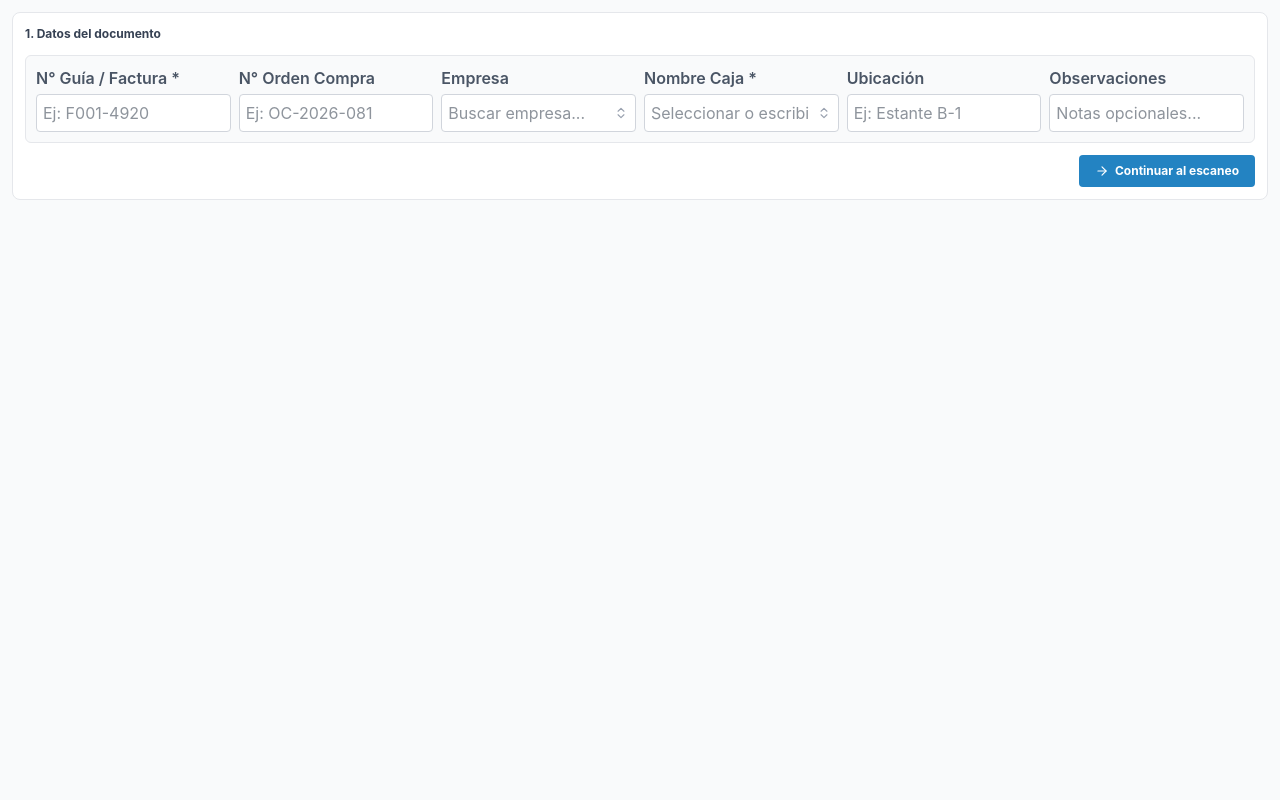
Test: IngresoPorDocumento › código no vinculado: abre la búsqueda del maestro y lo deja para vincular al confirmar
This screenshot has width=1280, height=800.
Type "F-100" into the field with placeholder "Ej: F001-4920". click: (133, 113)
box: [36,94,231,132]
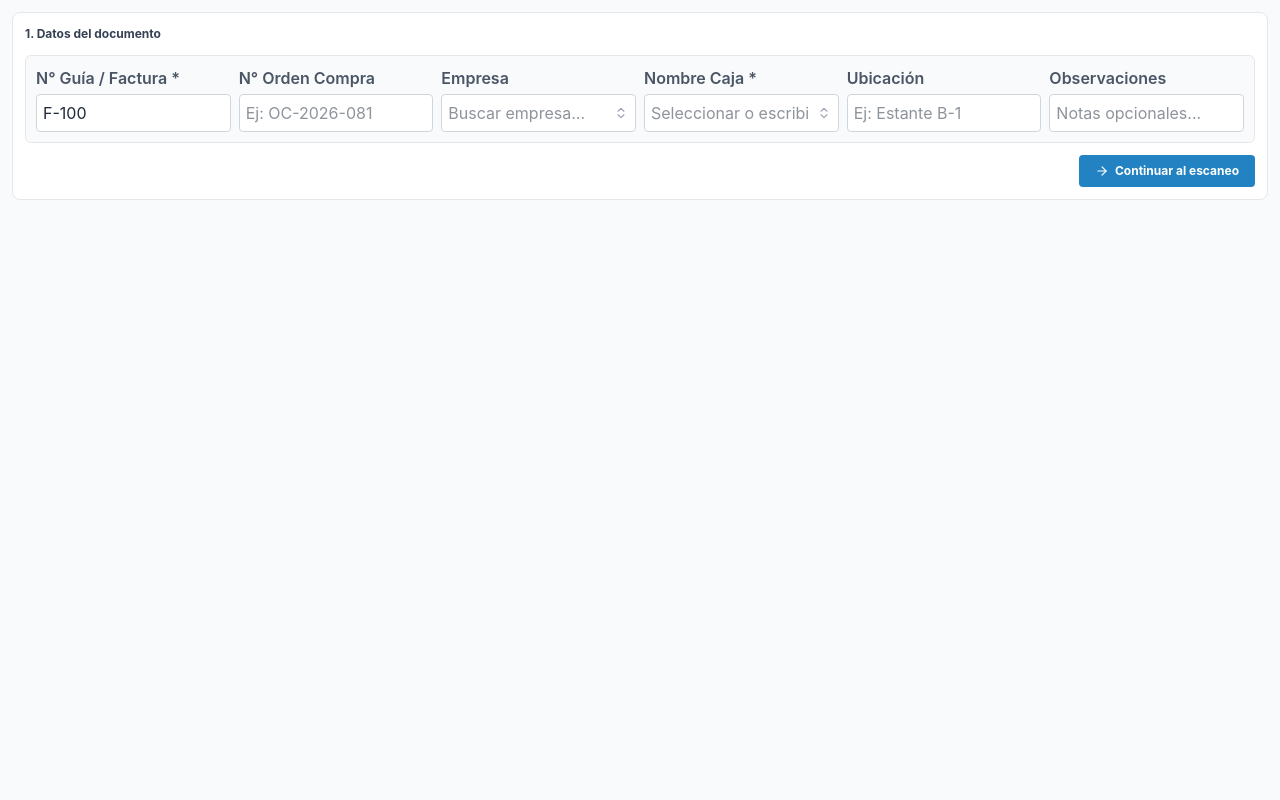
Type "OC-1" into the field with placeholder "Ej: OC-2026-081". click: (336, 113)
box: [239,94,433,132]
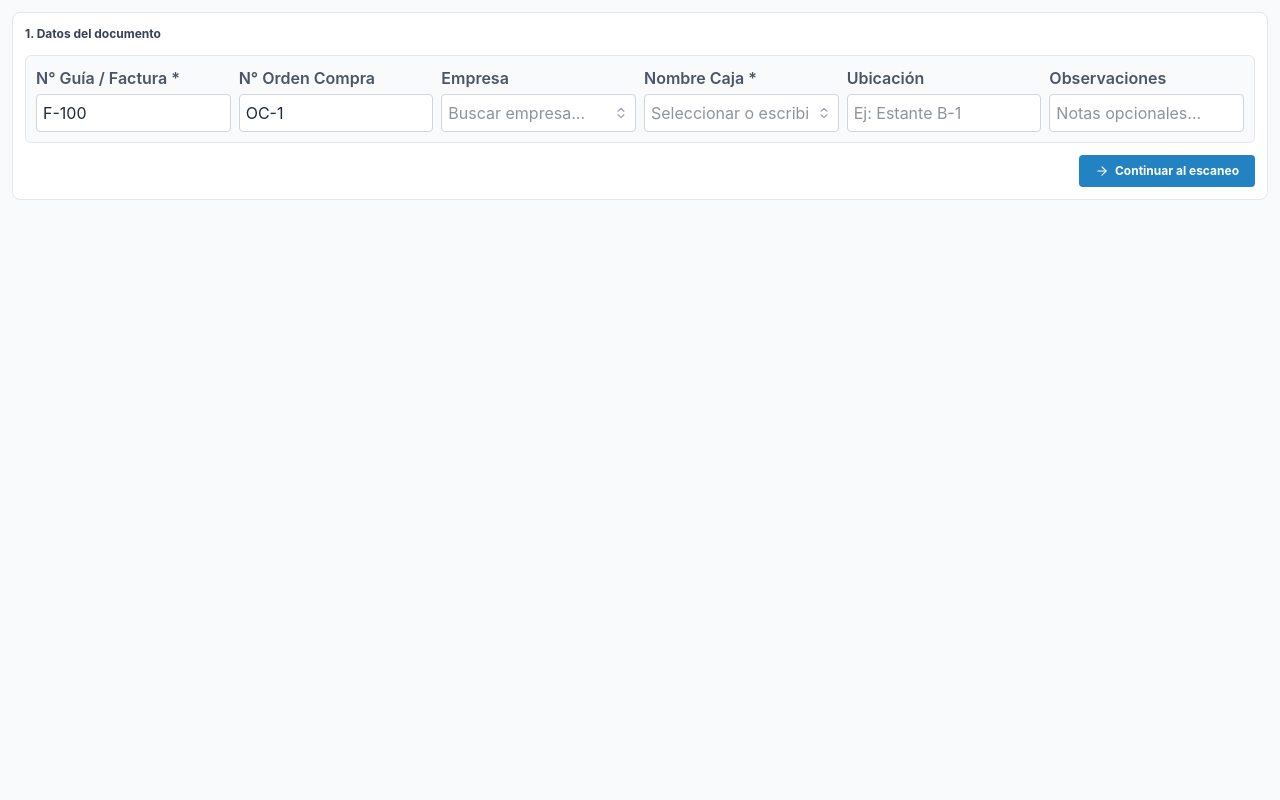
Type "Caja 1" into the field with placeholder "Seleccionar o escribir...". click: (741, 113)
box: [644,94,839,132]
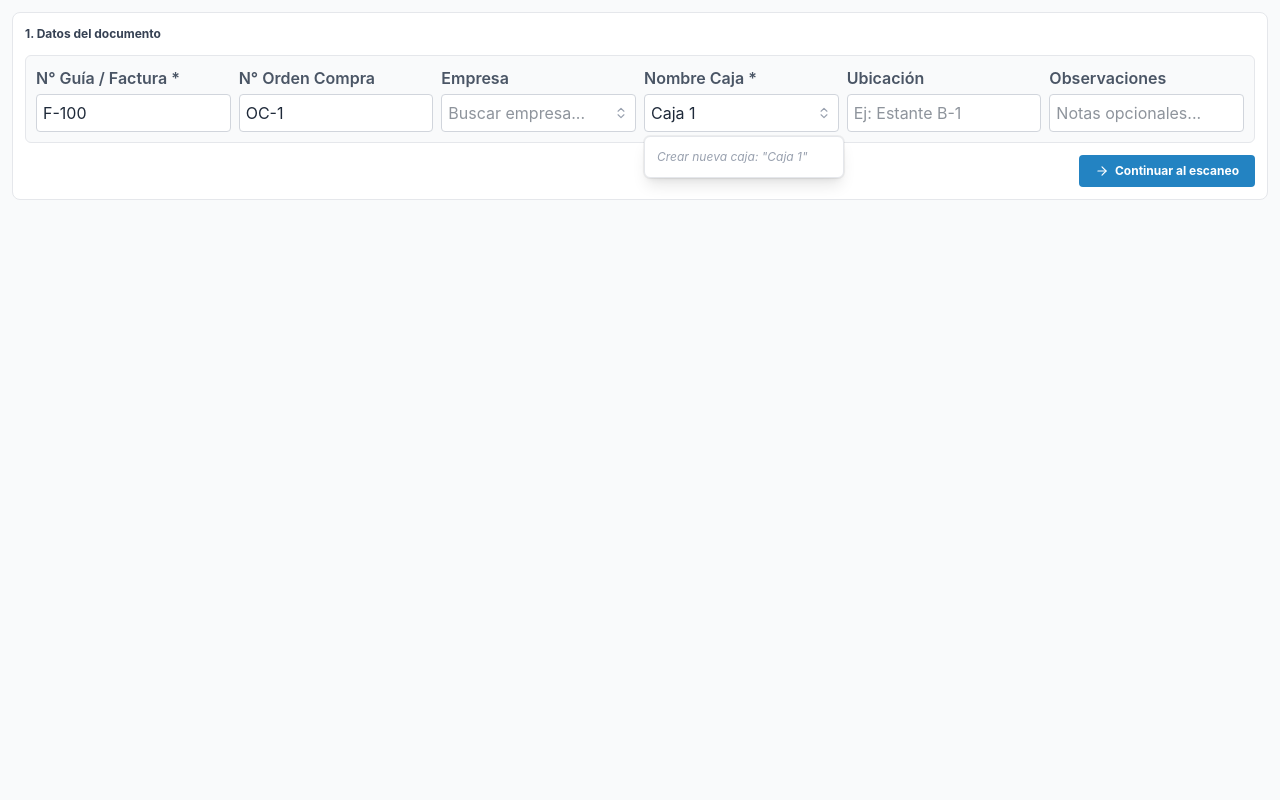
Click the button "Continuar al escaneo". click: (1167, 171)
box: [1079,155,1255,187]
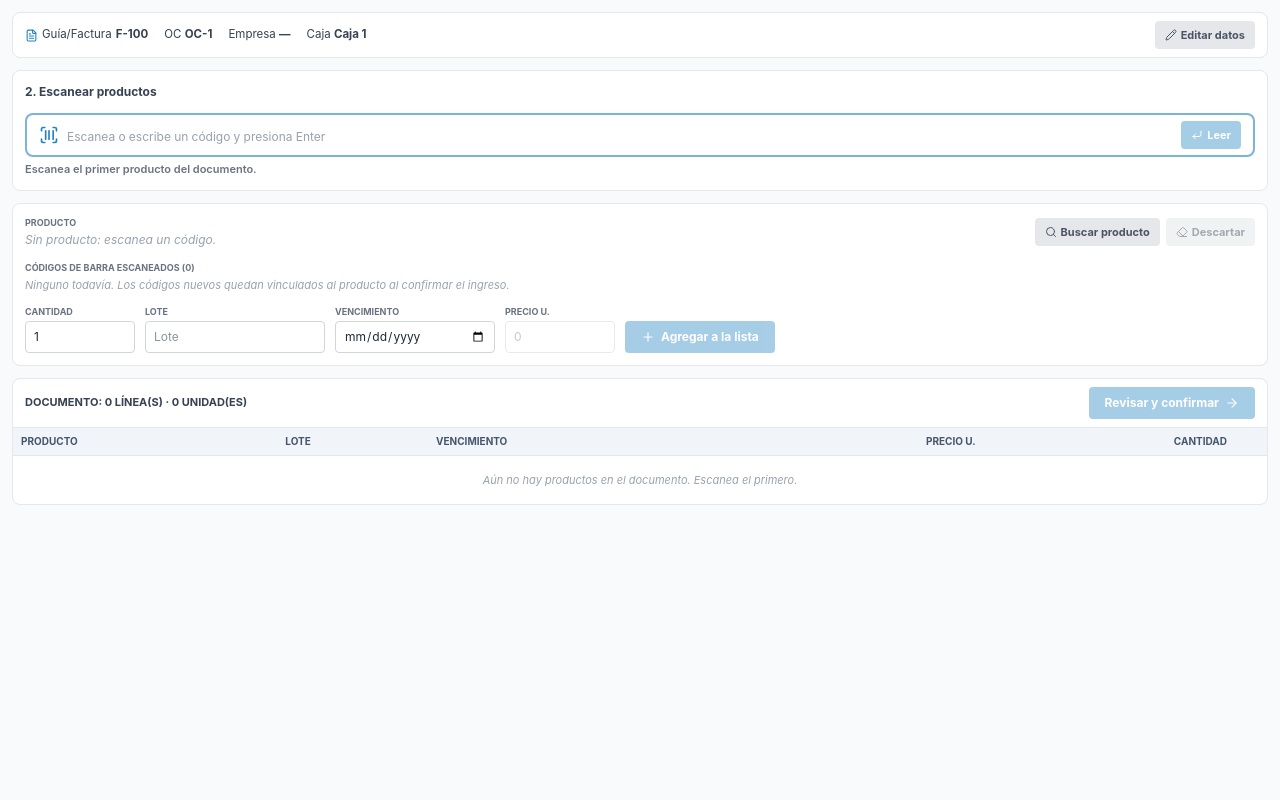
expect the field named "Código de barras" is shown: met
Type "999" into the field named "Código de barras". click: (620, 135)
box: [67,115,1173,155]
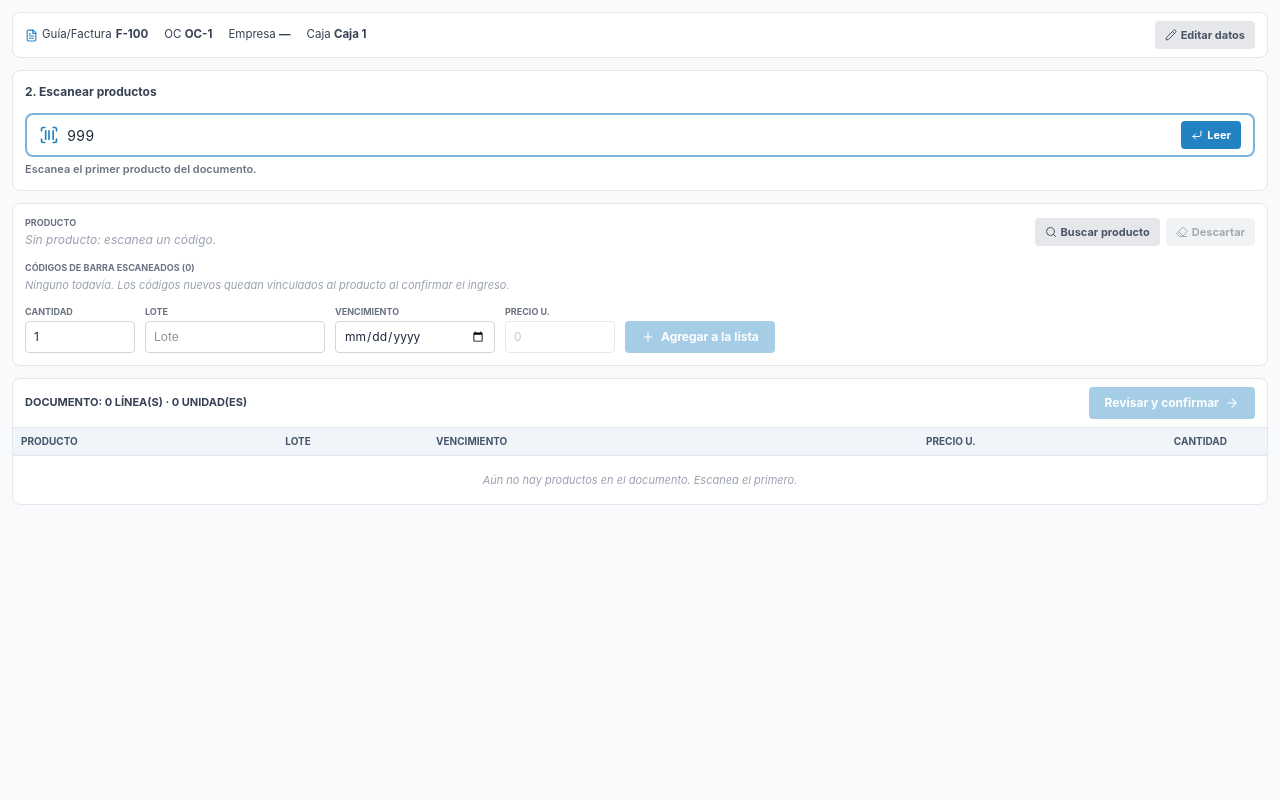
Press Enter in the field named "Código de barras", box [67,115,1173,155]
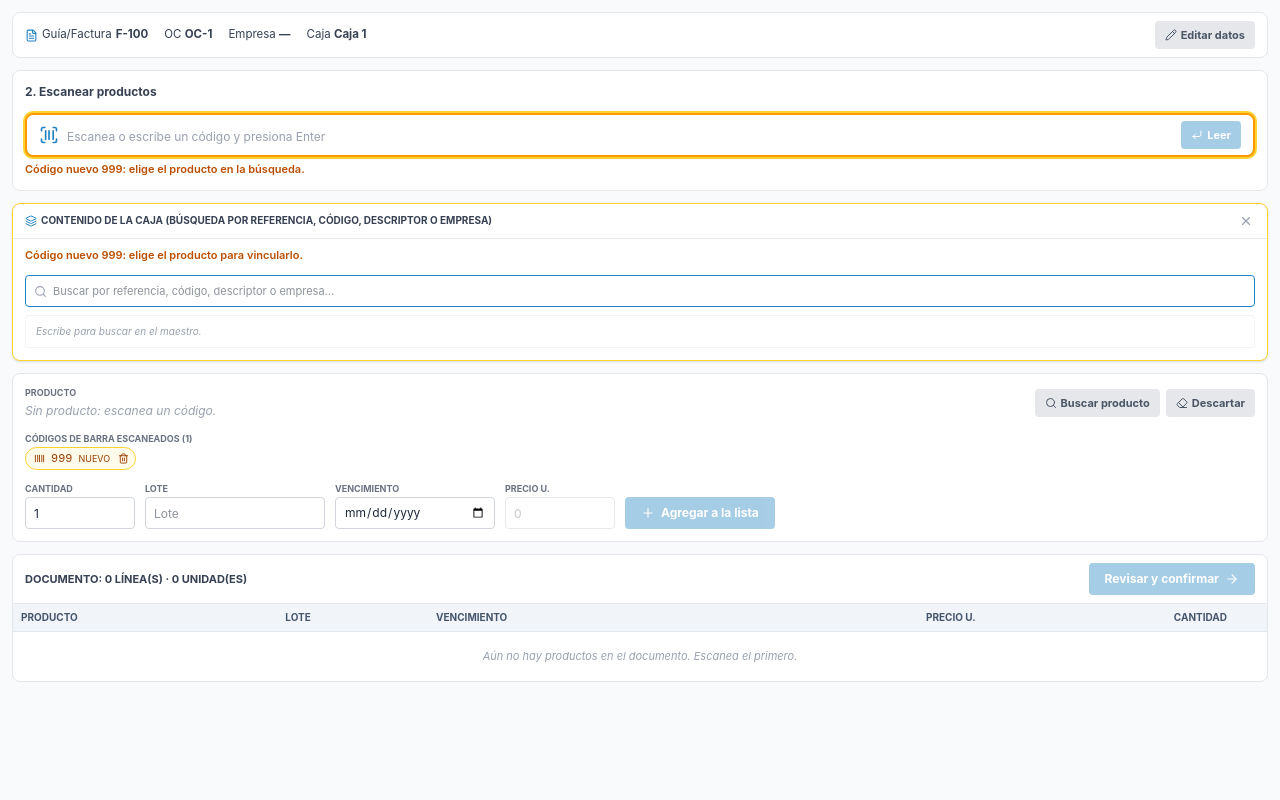
expect the message shows "Código nuevo 999": met, box [25,162,305,176]
expect the text "Código nuevo 999: elige el producto para vincularlo." is shown: met, box [25,248,303,262]
